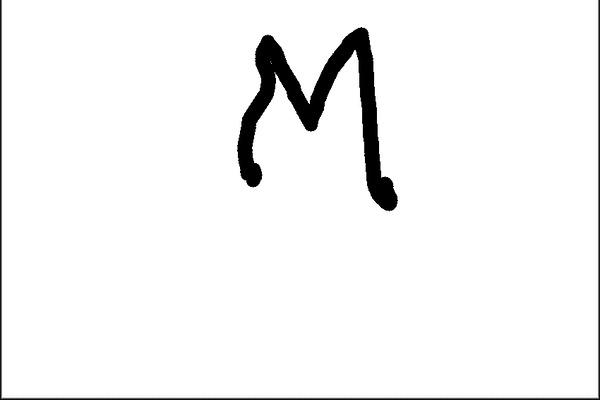M: (231, 22, 400, 216)
